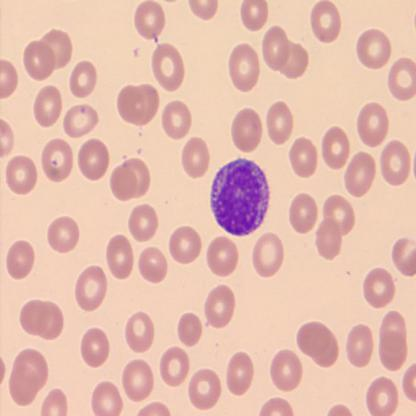Myelocyte: (212, 156, 270, 234)
